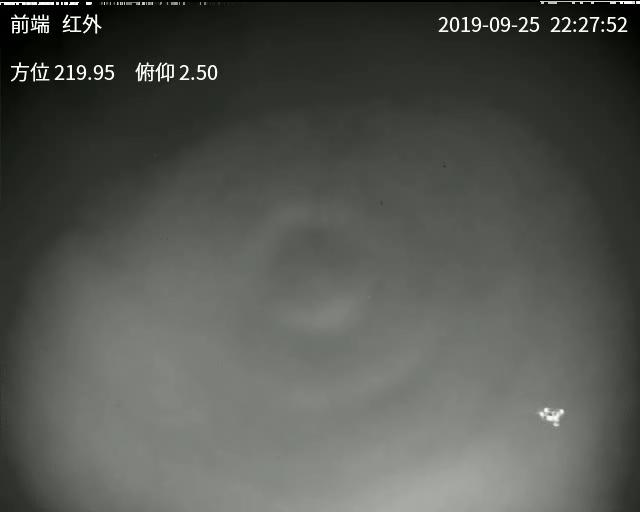uav: (535, 404, 568, 429)
